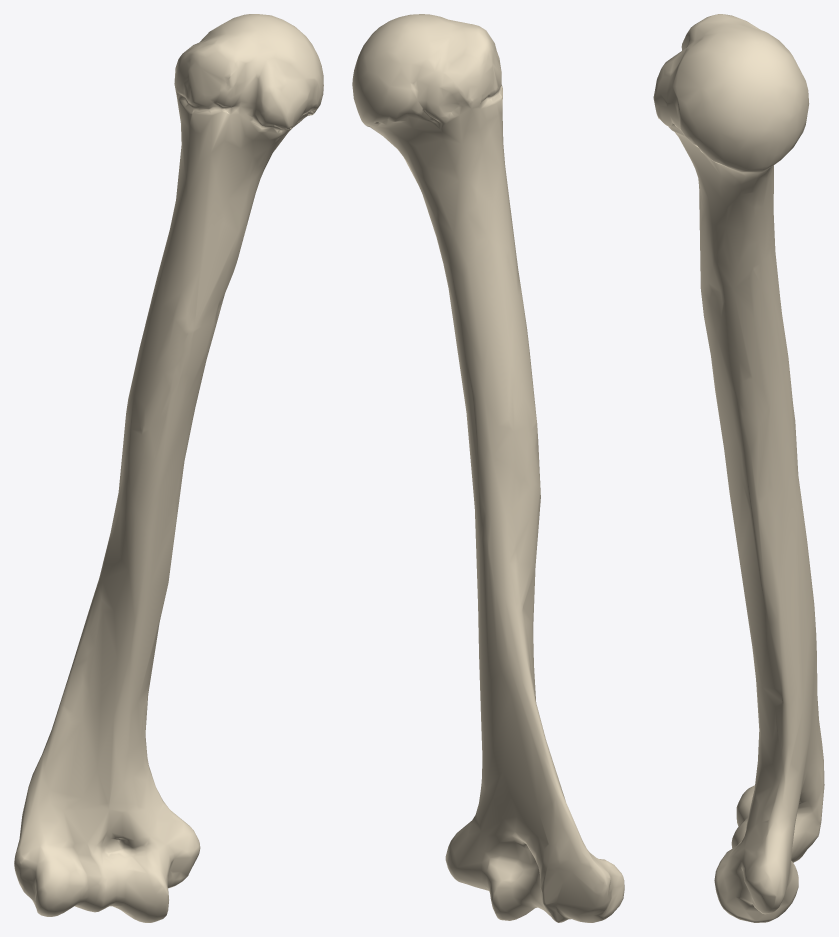
Rendered from humerus-r.glb.
3 renders of one model, left to right at view 1: azimuth 30°, elevation 25°; view 2: azimuth 150°, elevation 25°; view 3: azimuth 270°, elevation 25°, orthographic. The views are drawn at different scales.
Parts seen in each view (by area): view 1: Humerus.r; view 2: Humerus.r; view 3: Humerus.r.
Boxes of the visible parts, x1=… form: Humerus.r: x1=14, y1=14, x2=323, y2=922; Humerus.r: x1=352, y1=14, x2=624, y2=922; Humerus.r: x1=653, y1=14, x2=824, y2=922.
Bounding box in the file's own units: 0.1042 × 0.3176 × 0.0524.
